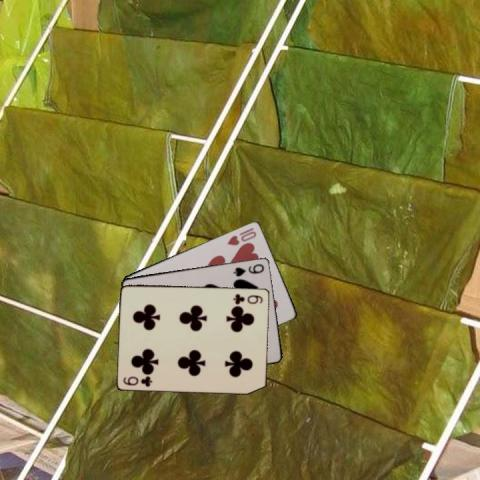10h: (224, 224, 258, 247)
6c: (121, 373, 153, 388), (231, 290, 264, 304)
9s: (230, 261, 266, 278)
